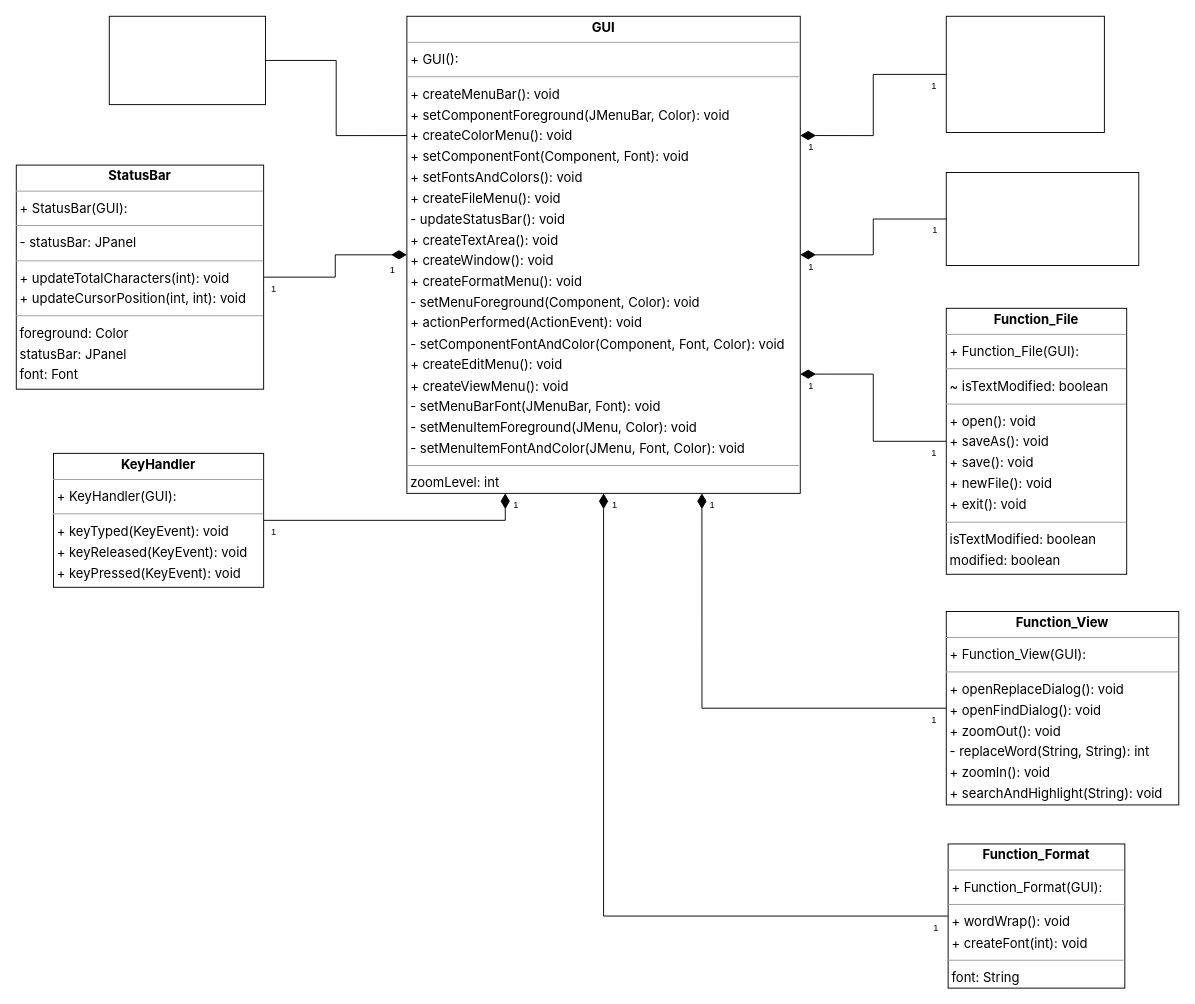
Some shapes in this 1195 by 1004 pixel diagram are drawn without their labels. The box of each missing label's shape, as (x1, y1, x2, y2) in pixels:
Function_Color + Function_Color(GUI): + changeColor(String): void: (945, 172, 1139, 266)
Function_Edit + Function_Edit(GUI): + redo(): void + undo(): void: (945, 15, 1104, 133)
Main + Main(): + main(String[]): void: (108, 15, 266, 105)
